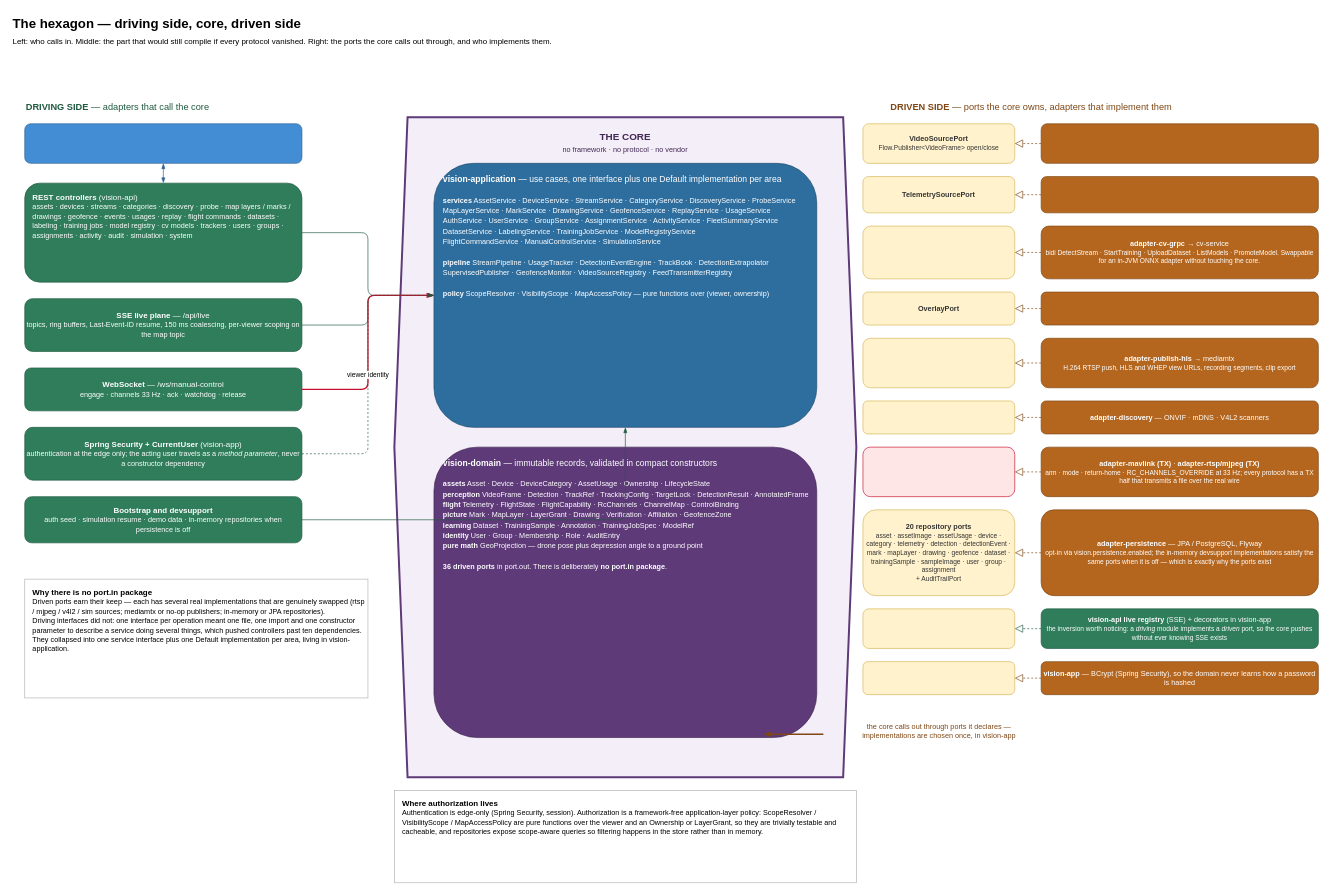
Some shapes in this 1330 by 894 pixel diagram are drawn without their labels. Each missing label, with the centre of its shape:
adapter-mavlink (MAVLink 2 UDP, firmware-aware decode) · adapter-simulation: the point at 1179,194
adapter-overlay — Java2D boxes, labels, confidence, telemetry OSD: the point at 1179,308
adapter-rtsp (JavaCV/FFmpeg) · adapter-mjpeg · adapter-v4l2 · adapter-simulation: the point at 1179,143
DetectionPort ModelRegistryPort TrainingPort · DatasetUploadPort: the point at 938,252
DeviceDiscoveryPort: the point at 938,417
EventPublisherPort LiveUpdatePublisherPort: the point at 938,628
FlightCommandPort ManualControlPort FeedTransmitterPort: the point at 938,471
PasswordHasherPort: the point at 938,678
StreamPublisherPort RecordingPort ReplayFrameExtractionPort: the point at 938,363
vision-web SPA — browser the only client; talks REST, SSE, WS: the point at 163,143
